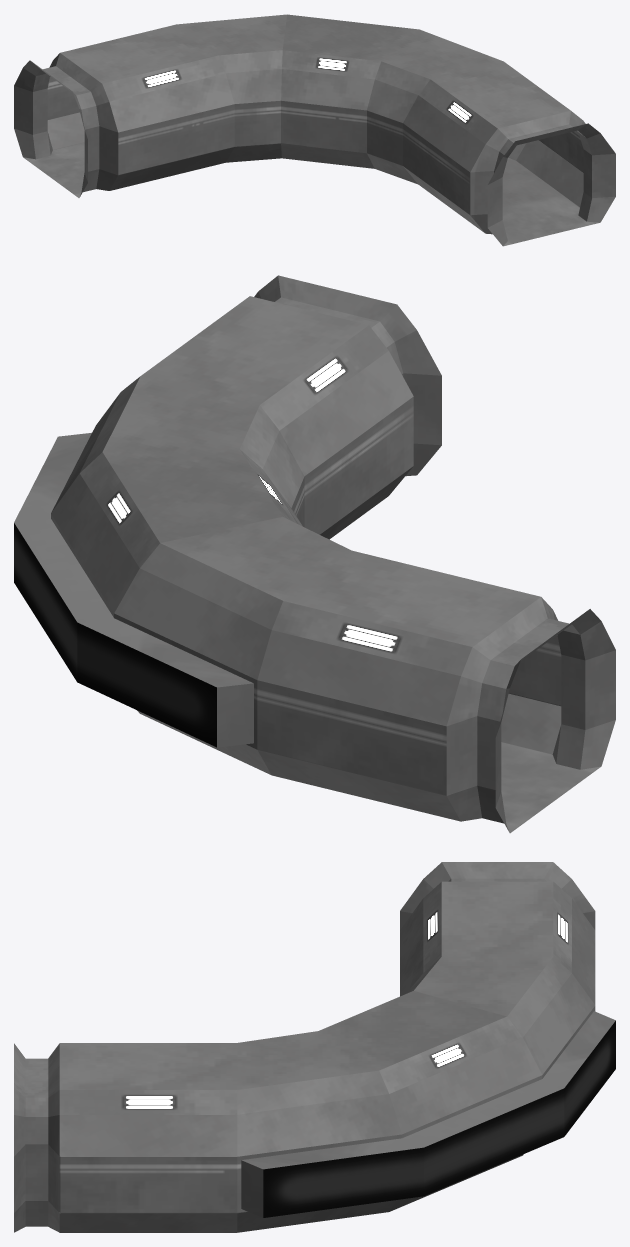
The model's file is hall_corner_window.fbx.
3 renders of one model, top to bottom at view 1: azimuth 30°, elevation 25°; view 2: azimuth 150°, elevation 25°; view 3: azimuth 270°, elevation 25°, orthographic. The views are drawn at different scales.
Parts seen in each view (by area): view 1: hallway_oct_corner_window; view 2: hallway_oct_corner_window, hallway_oct_corner_window_part; view 3: hallway_oct_corner_window, hallway_oct_corner_window_part.
Part boxes in pixels (box(x1,y1,x2,y2)): hallway_oct_corner_window: box(14, 14, 615, 246); hallway_oct_corner_window: box(14, 275, 615, 833); hallway_oct_corner_window_part: box(14, 523, 216, 747); hallway_oct_corner_window: box(14, 862, 615, 1232); hallway_oct_corner_window_part: box(263, 1021, 615, 1217).
Bounding box in the file's own units: 1618 × 400 × 1618.
2 materials, 2 textured.
